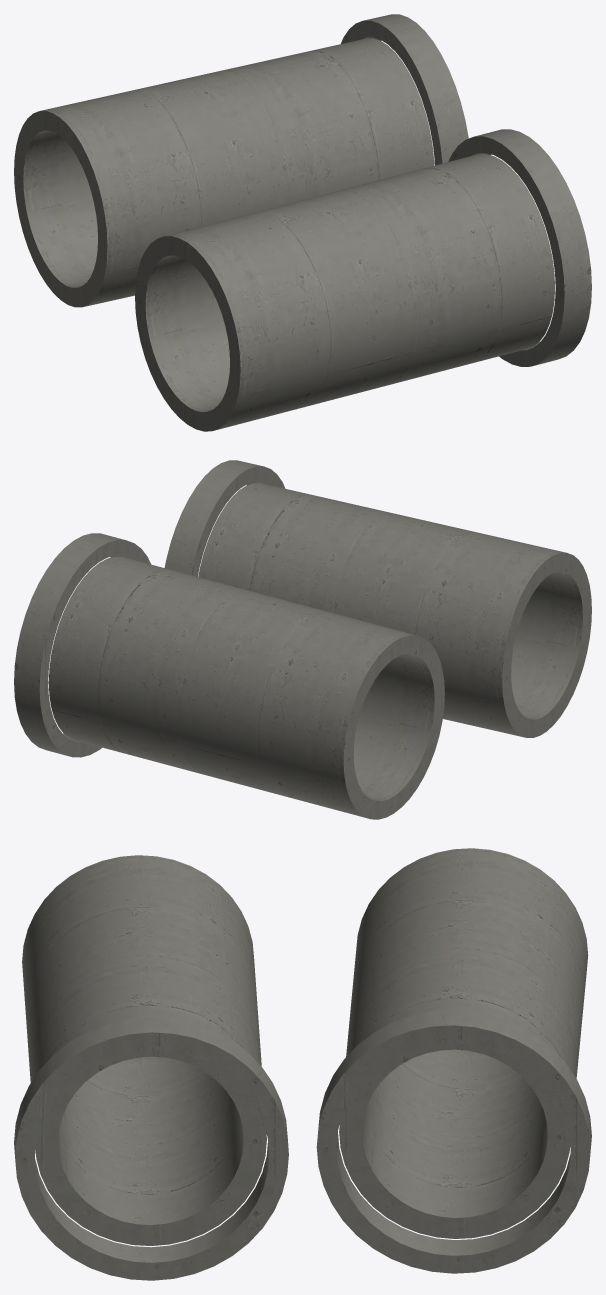
File: HID-DRN-001_anim.glb
3 renders of one model, top to bottom at view 1: azimuth 30°, elevation 25°; view 2: azimuth 150°, elevation 25°; view 3: azimuth 270°, elevation 25°, orthographic. The views are drawn at different scales.
Parts seen in each view (by area): view 1: HID-DRN-001_anim0, HID-DRN-001_anim1; view 2: HID-DRN-001_anim1, HID-DRN-001_anim0; view 3: HID-DRN-001_anim1, HID-DRN-001_anim0.
Boxes of the visible parts, bbox=[...] form: HID-DRN-001_anim0: bbox=[135, 129, 591, 431]; HID-DRN-001_anim1: bbox=[14, 14, 468, 307]; HID-DRN-001_anim1: bbox=[14, 533, 444, 819]; HID-DRN-001_anim0: bbox=[164, 460, 591, 737]; HID-DRN-001_anim1: bbox=[316, 848, 591, 1273]; HID-DRN-001_anim0: bbox=[14, 855, 288, 1280].
Bounding box in the file's own units: 1.07 × 0.63 × 1.24.
Materials: 1 (1 with a texture image).
